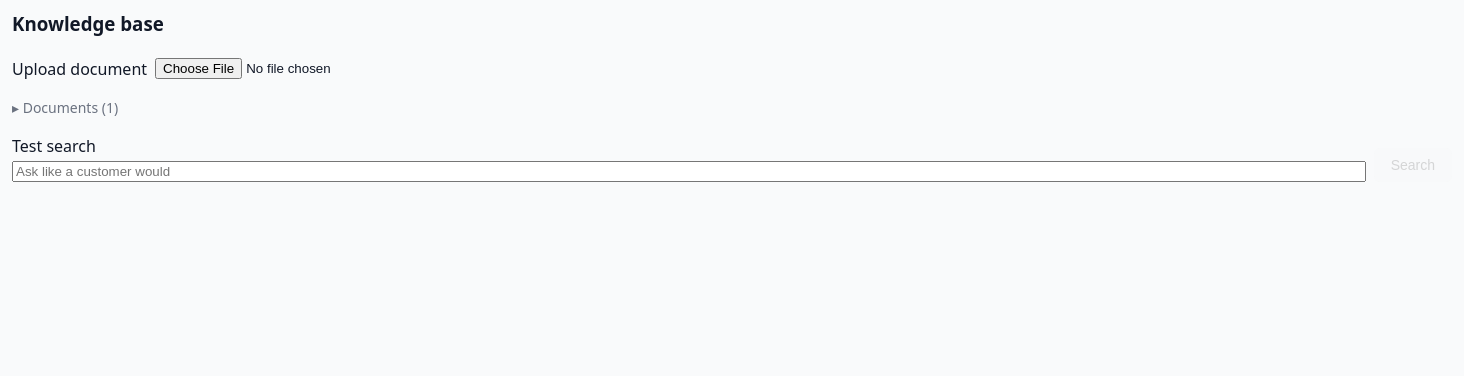
Test: KnowledgeBasePanel › clears stale search results once the document set changes
Click the button "Documents (1)": (65,107) [12,96,118,118]
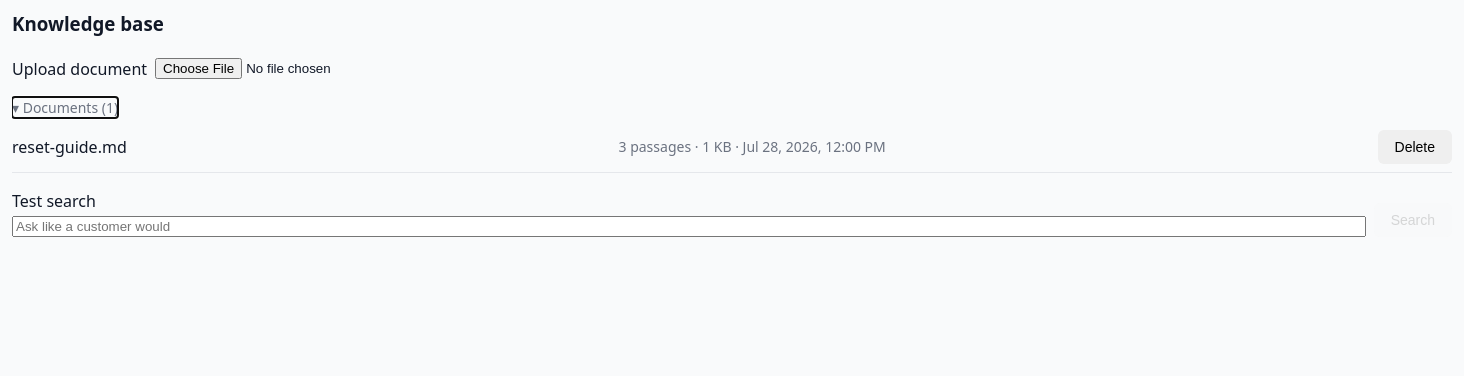
In the field labelled "Test search": (689,226) [12,216,1366,236], type "reset"
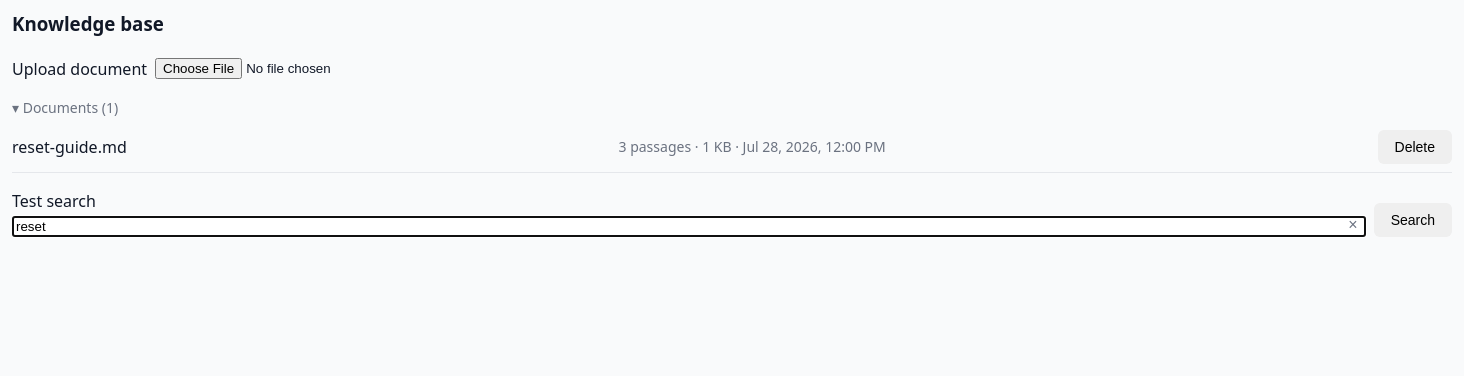
Click the button "Search": (1413,220) [1374,202,1452,236]
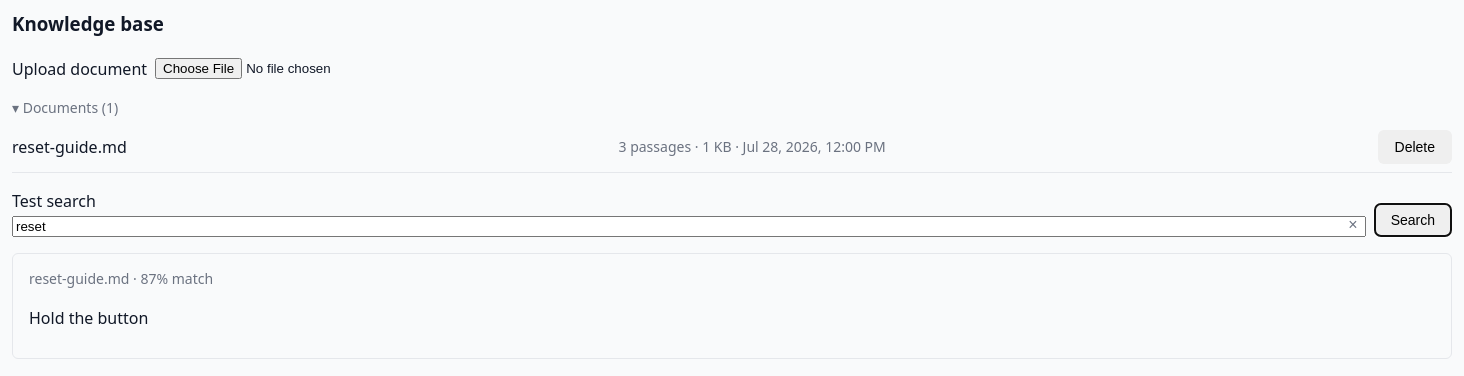
Result: the text "Hold the button" is shown at [29,306,148,328]
Click the button "Delete": (1415,146) [1378,130,1452,164]
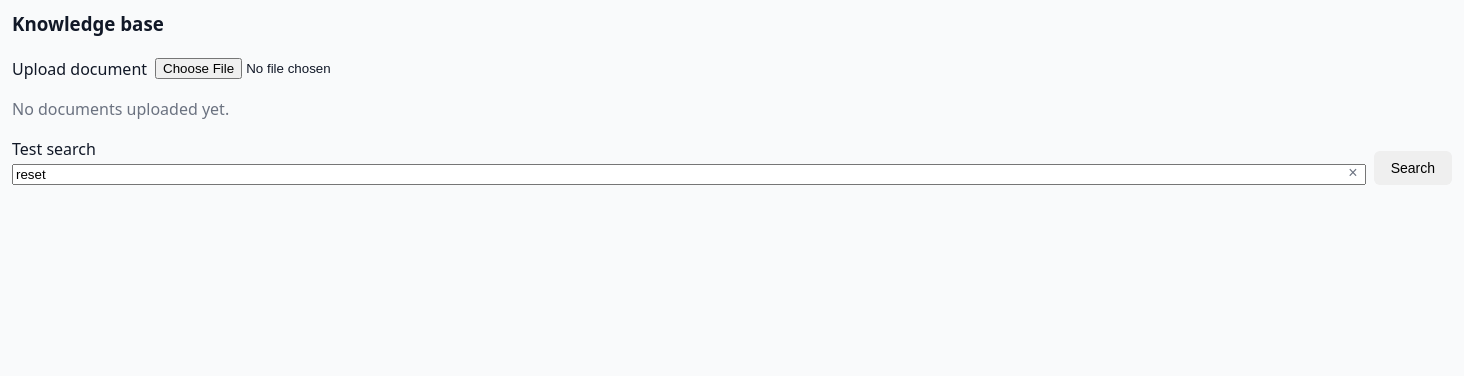
Result: the text "No documents uploaded yet." is shown at [12,98,229,120]
Result: the text "Hold the button" is gone
